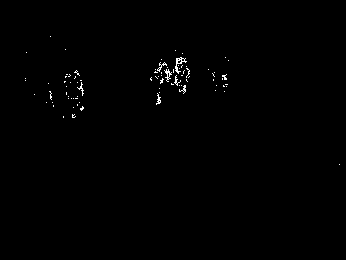person: (60, 70, 88, 119), (147, 58, 171, 107), (171, 54, 192, 96)
